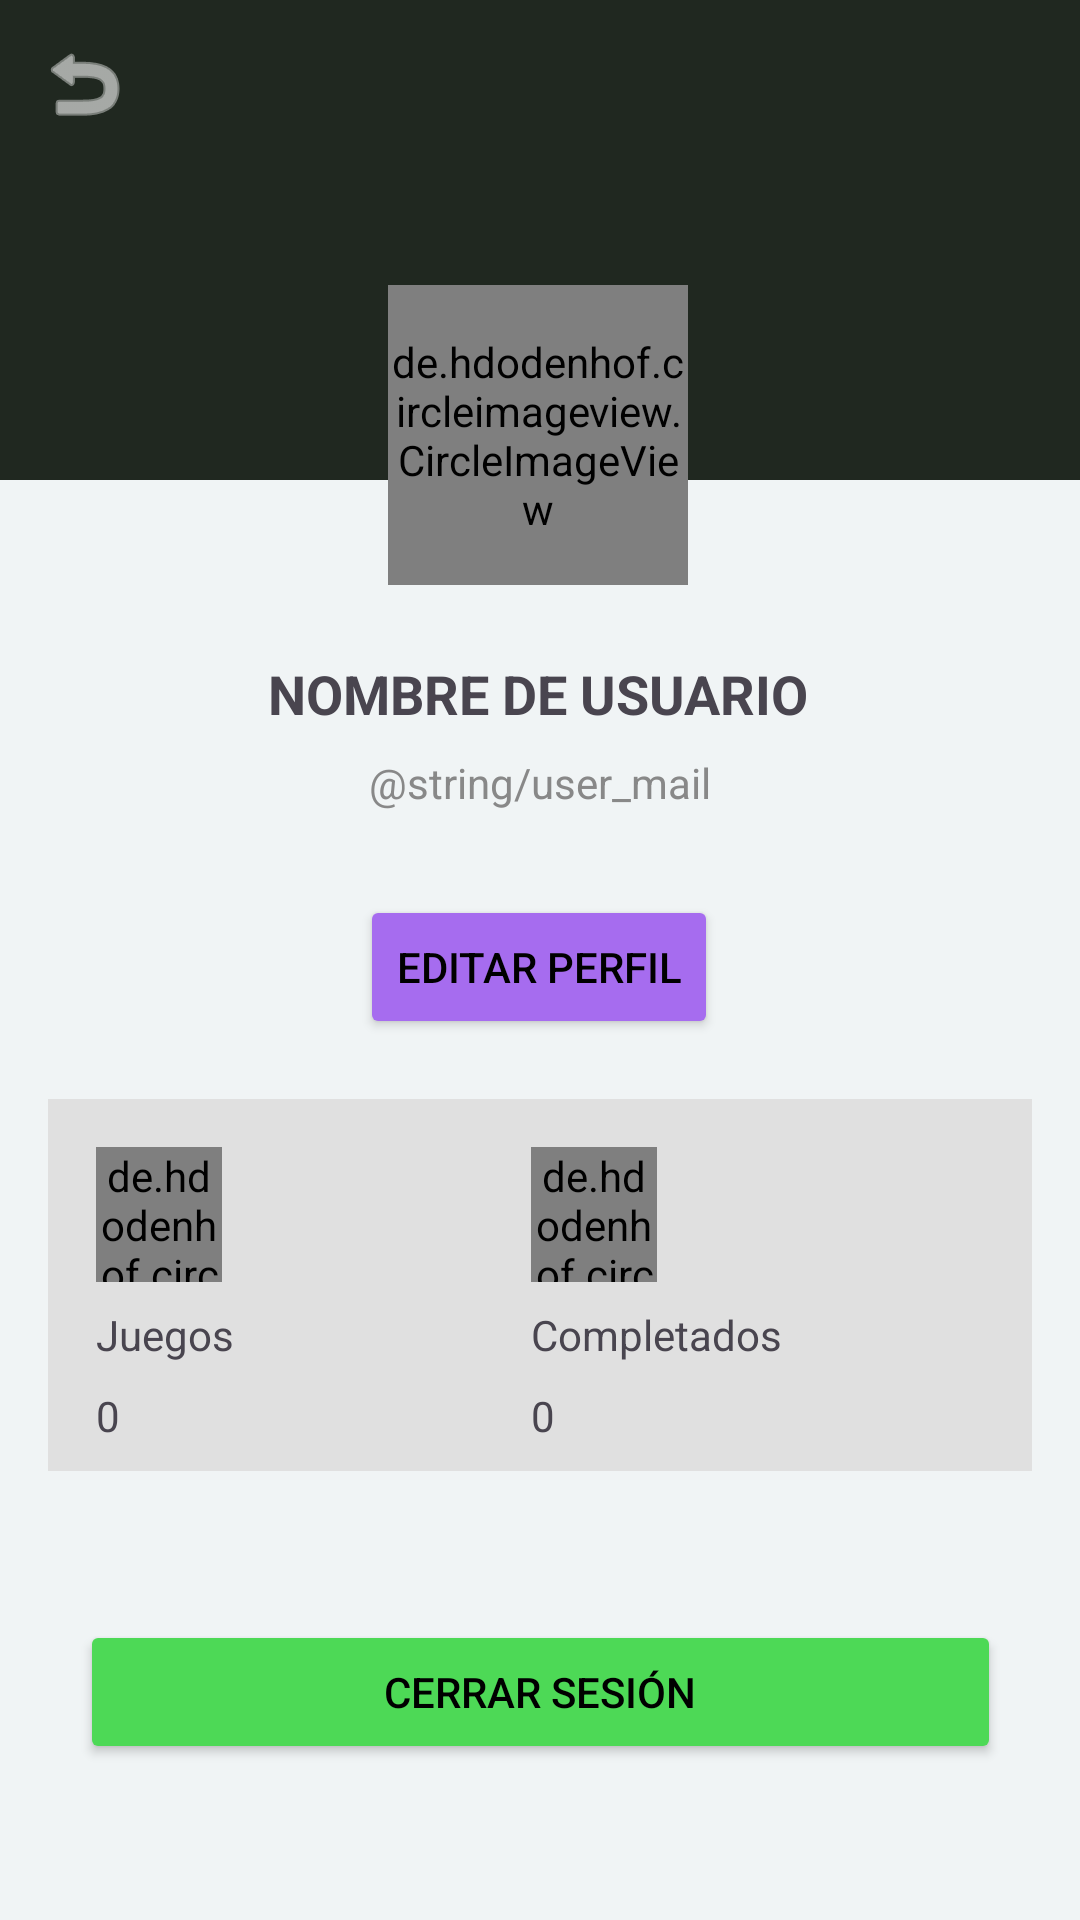

Locate icon controls on the screen. Image size 1080 x 1920, boxes as [x1,y1,x2,y2].
revert: [51,53,120,116]
